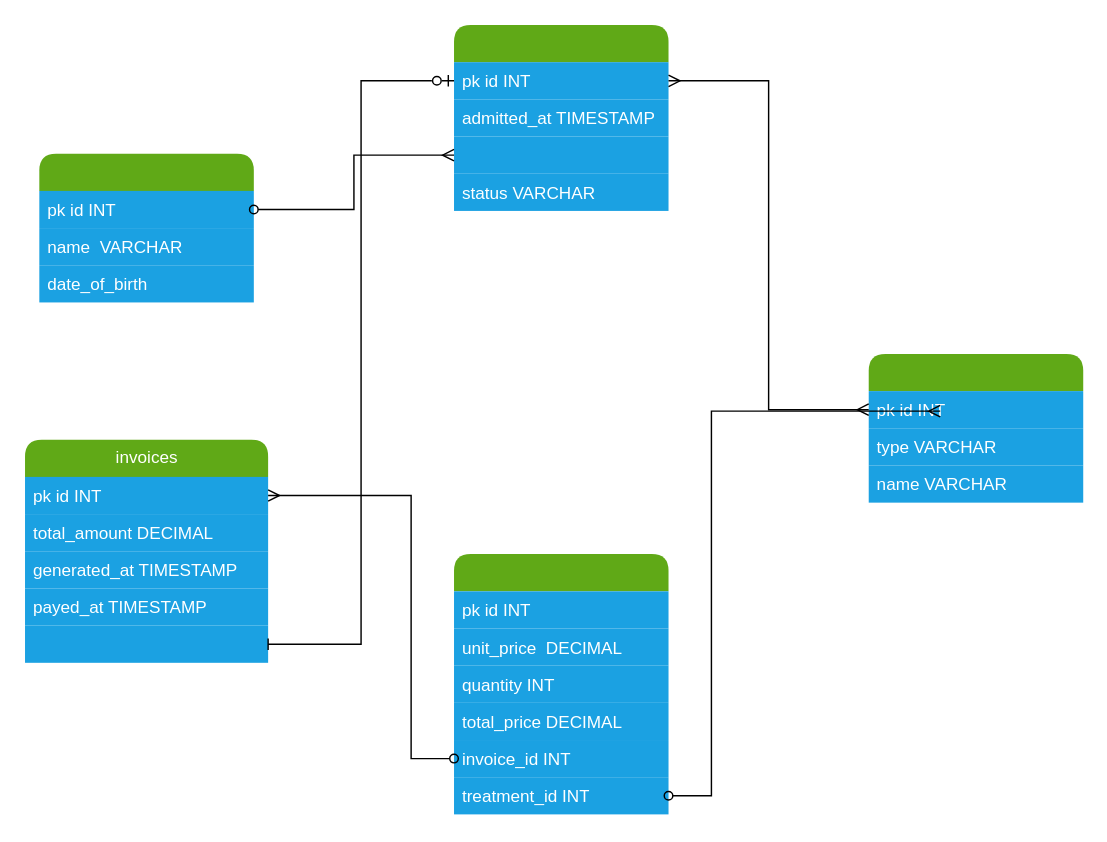
This 1107x842 diagram has some shape labels left out. The shapes that lost their labels are listed below. From the top down, each one's box as (x1, y1, x2, y2) in pixels, then its label:
(453, 24, 668, 210): medical_history
(453, 136, 668, 173): patient_id INT
(39, 153, 253, 302): patients
(868, 353, 1083, 502): treatments
(24, 625, 267, 662): medical_history_id INT
(453, 553, 668, 814): invoice_items
